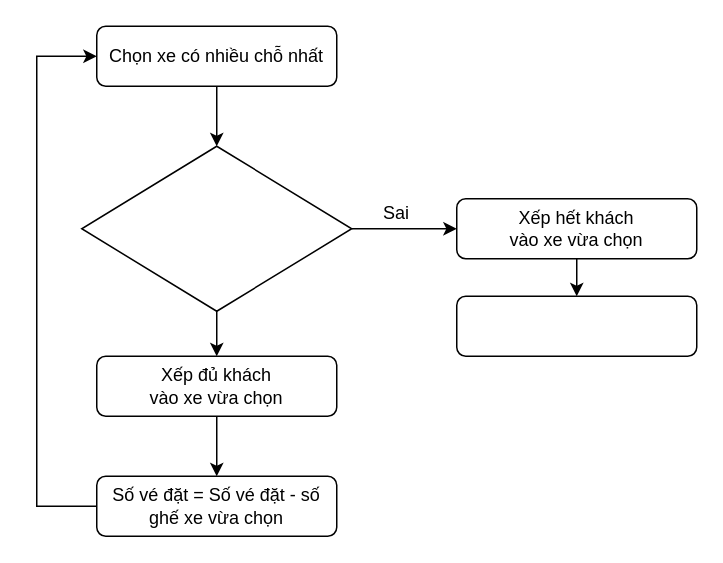
This 723x563 diagram has some shape labels left out. The shapes that lost their labels are listed below. From the top down, each one's centre as x and y in pixels, then its label:
At (x=216, y=228): "Số vé đặt > số ghế ngồi trên xe vừa chọn".
At (x=576, y=325): "Kết thúc".
